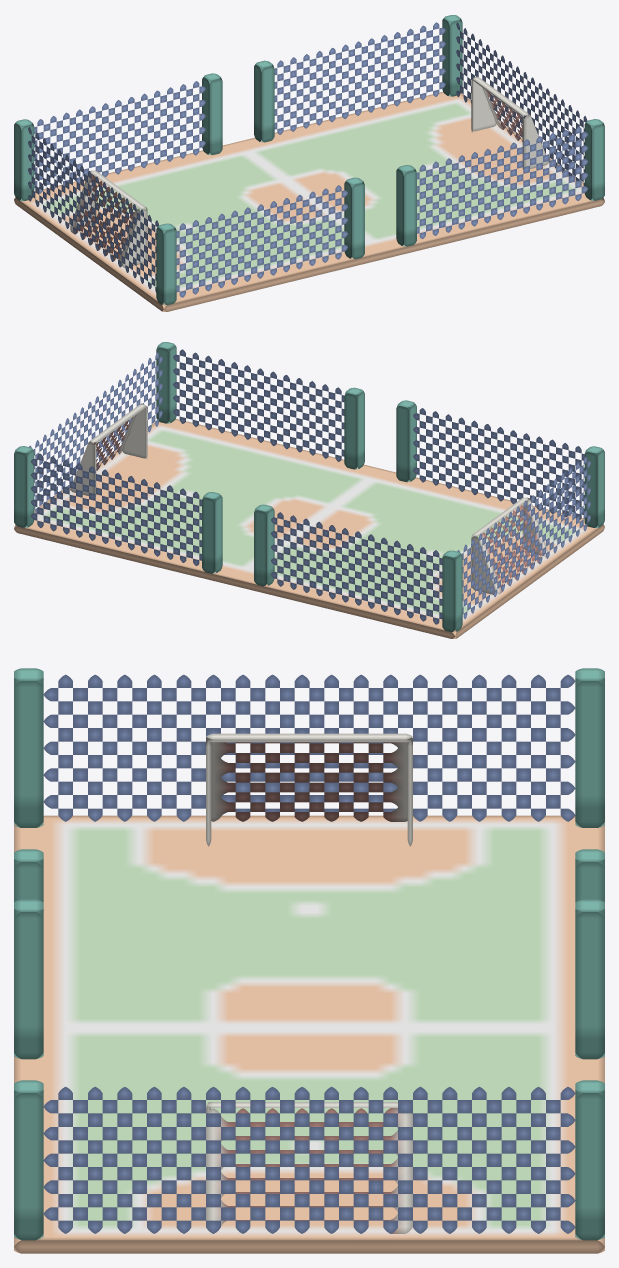
The model's file is Lapangan_Futsal.fbx.
3 views of the same model, one above another, from view 1: azimuth 30°, elevation 25°; view 2: azimuth 150°, elevation 25°; view 3: azimuth 270°, elevation 25° (orthographic). The views are drawn at different scales.
Visible parts, largest first — view 1: Lapangan, Tiang, Pagar kiri/kanan_1, Pagar kiri/kanan_3, Pagar kiri/kanan, Pagar kiri/kanan_2, Pagar Belakang Gawang_1, Gawang, Pagar Belakang Gawang; view 2: Lapangan, Tiang, Pagar kiri/kanan_2, Pagar kiri/kanan, Pagar kiri/kanan_3, Pagar kiri/kanan_1, Pagar Belakang Gawang_1, Gawang, Pagar Belakang Gawang; view 3: Lapangan, Pagar Belakang Gawang, Pagar Belakang Gawang_1, Tiang, Gawang.
Boxes of the visible parts, x1,y1,x2,y2 form: Lapangan: [14, 92, 604, 311]; Tiang: [14, 15, 604, 305]; Pagar kiri/kanan_1: [176, 185, 347, 297]; Pagar kiri/kanan_3: [274, 22, 445, 134]; Pagar kiri/kanan: [417, 126, 587, 238]; Pagar kiri/kanan_2: [34, 81, 205, 193]; Pagar Belakang Gawang_1: [28, 127, 158, 292]; Gawang: [70, 76, 548, 267]; Pagar Belakang Gawang: [456, 22, 587, 186]; Lapangan: [14, 419, 604, 638]; Tiang: [14, 342, 604, 632]; Pagar kiri/kanan_2: [271, 512, 442, 624]; Pagar kiri/kanan: [173, 349, 344, 461]; Pagar kiri/kanan_3: [31, 453, 201, 565]; Pagar kiri/kanan_1: [413, 408, 584, 519]; Pagar Belakang Gawang_1: [457, 457, 590, 618]; Gawang: [70, 403, 547, 594]; Pagar Belakang Gawang: [29, 352, 162, 513]; Lapangan: [14, 815, 604, 1253]; Pagar Belakang Gawang: [43, 1086, 575, 1233]; Pagar Belakang Gawang_1: [43, 674, 575, 821]; Tiang: [14, 668, 604, 1240]; Gawang: [206, 733, 412, 1233].
Size of the model in its own units: 3400 by 600 by 2000.
Materials: 1 (1 with a texture image).
